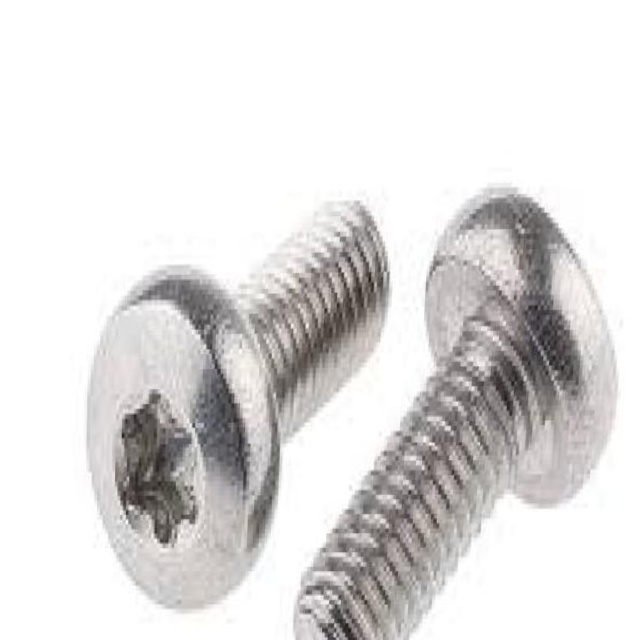torx: (80, 260, 289, 615)
